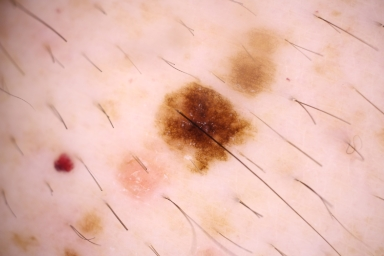melanoma: (152, 81, 248, 173), (232, 28, 276, 96)
